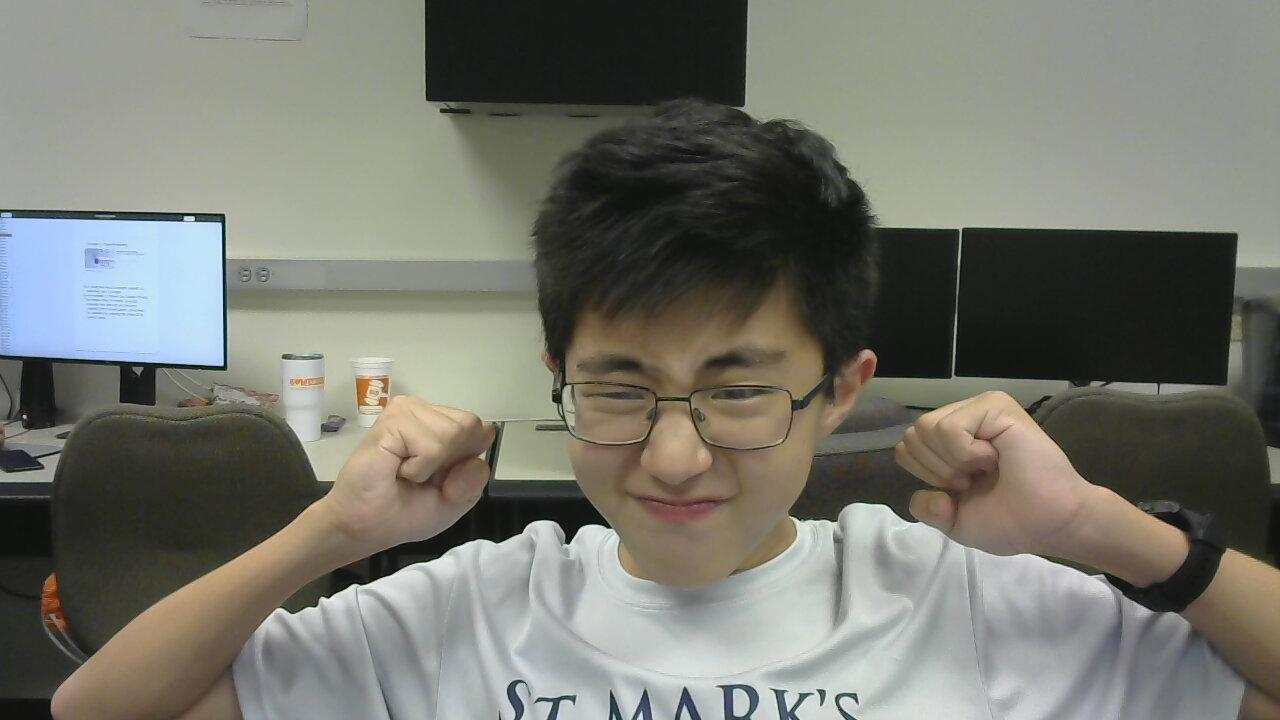fist: (301, 384, 509, 581), (881, 379, 1079, 576)
